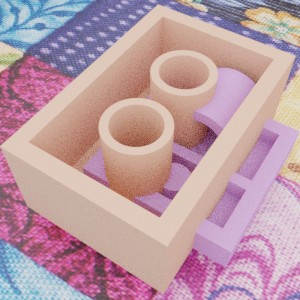lego: (0, 4, 295, 294), (82, 67, 300, 267)
